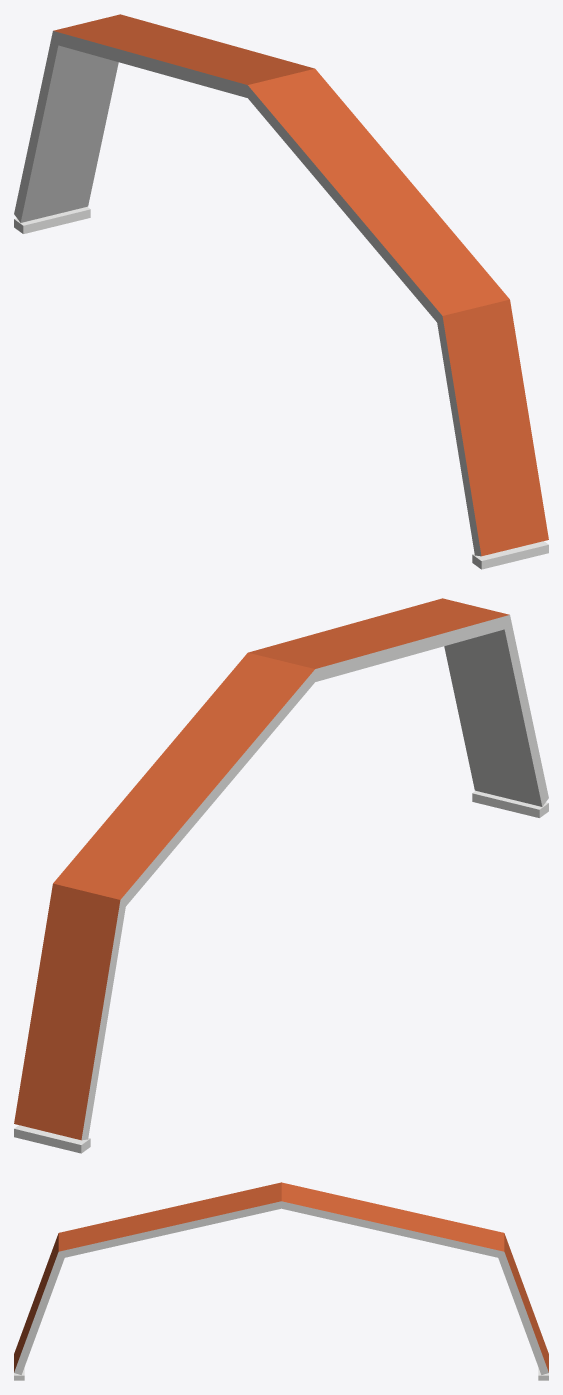
Rendered from telhado_mansarda_v6_0_5m.glb.
3 renders of one model, top to bottom at view 1: azimuth 30°, elevation 25°; view 2: azimuth 150°, elevation 25°; view 3: azimuth 270°, elevation 25°, orthographic. The views are drawn at different scales.
Parts seen in each view (by area): view 1: telhado_mansarda_v6_0_5m; view 2: telhado_mansarda_v6_0_5m; view 3: telhado_mansarda_v6_0_5m.
Boxes of the visible parts, <box> form: telhado_mansarda_v6_0_5m: <box>14,14,548,569</box>; telhado_mansarda_v6_0_5m: <box>14,598,548,1153</box>; telhado_mansarda_v6_0_5m: <box>14,1182,548,1380</box>.
Size of the model in its own units: 0.5 by 2.22 by 6.
